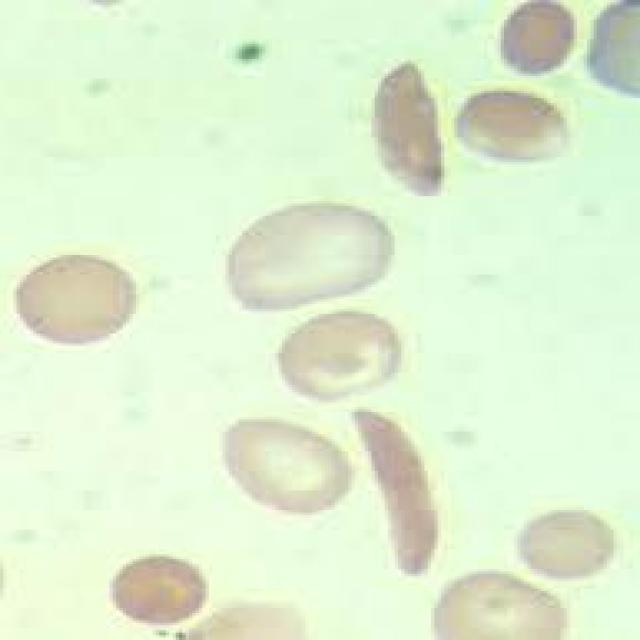RBC: (209, 196, 408, 319), (212, 412, 365, 517), (0, 240, 139, 350), (266, 302, 414, 404), (438, 74, 590, 169), (424, 566, 584, 640), (96, 547, 219, 635), (508, 500, 624, 584)
sickle cell: (337, 397, 459, 589), (358, 52, 458, 201)
